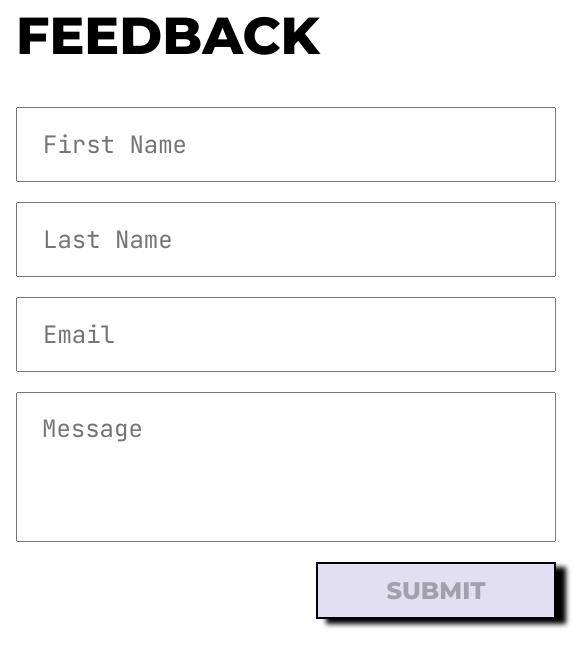
form component › should have enabled button if all inputs are valid
Step 1. Type "John" into the field named "first-name" → [286, 144], box [16,106,556,182]
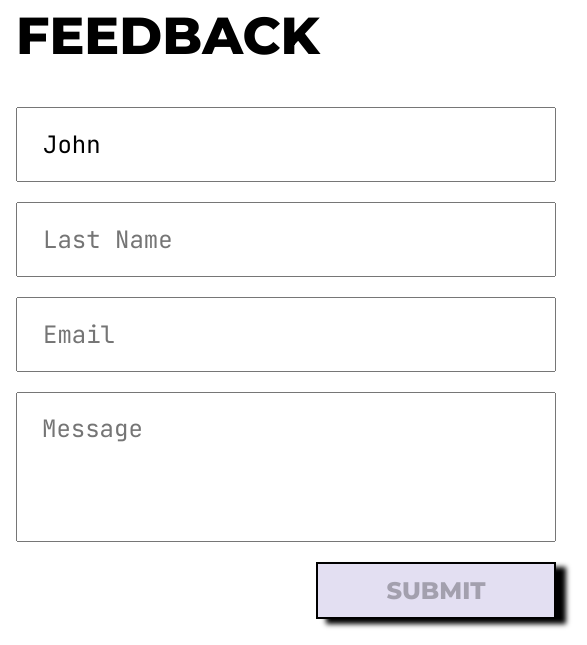
Step 2. Type "Doe" into the field named "last-name" → [286, 239], box [16,202,556,276]
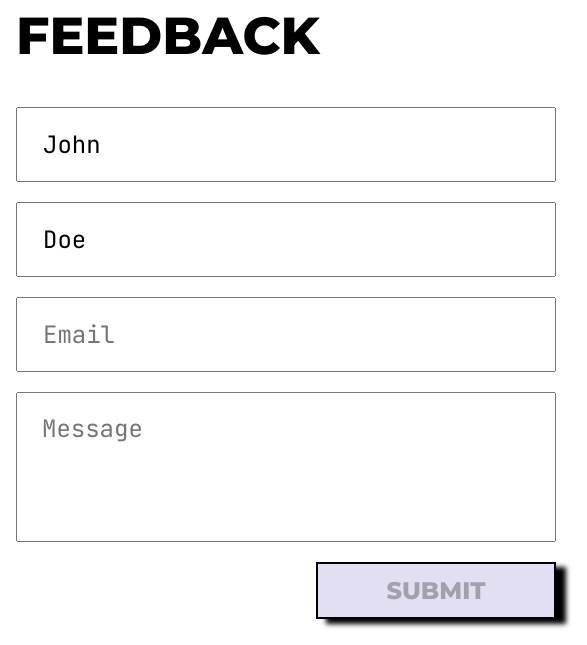
Step 3. Type "dot@dot.ua" into the field labelled "Email" → [286, 334], box [16,296,556,372]
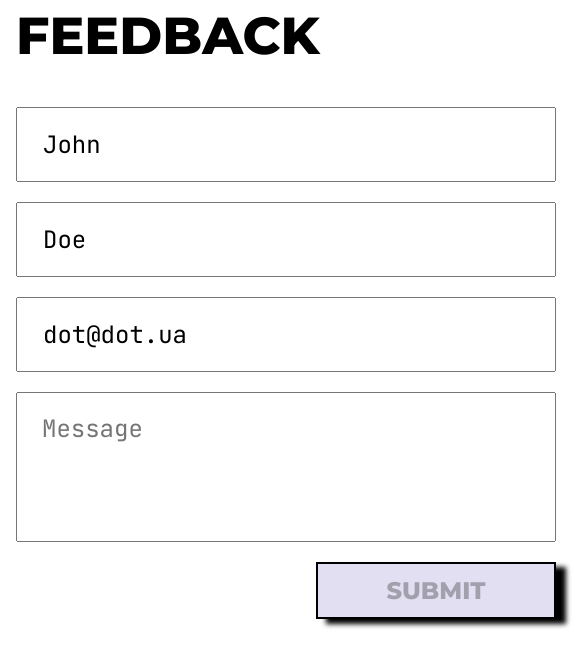
Step 4. Type "Just to be sure that length is bigger than 10 chars." into the text box named "textarea" → [286, 466], box [16,392,556,542]
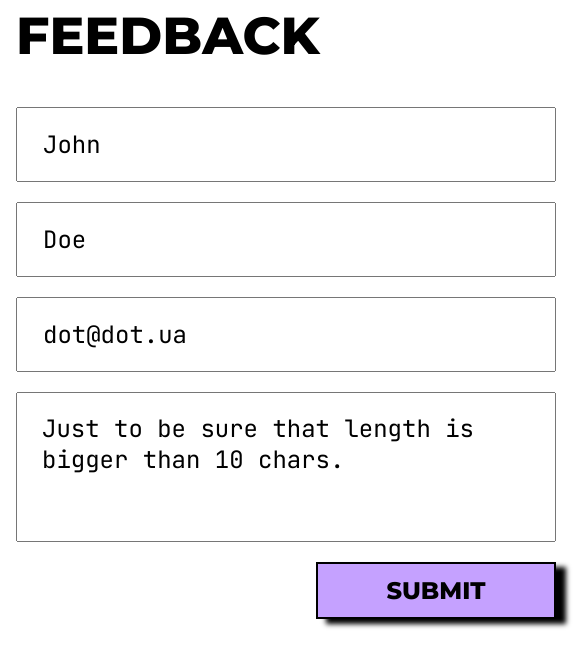
Expected: the button with aria-label "submit-button" is enabled, [316,562,556,618]
